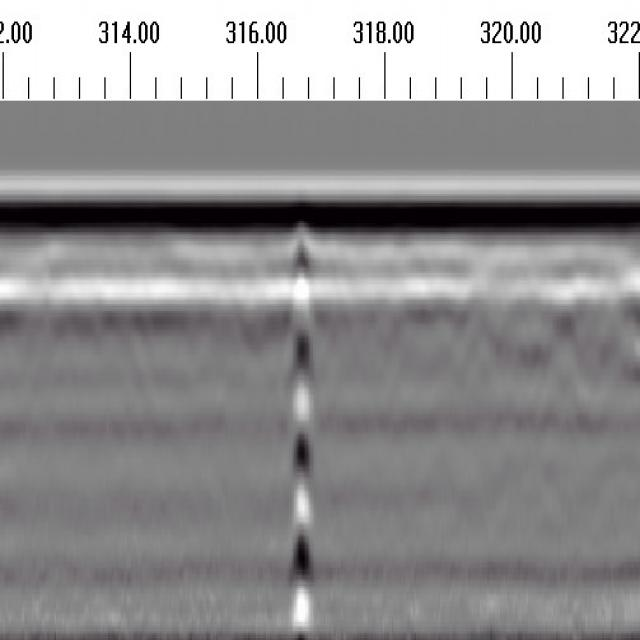crack: (287, 217, 314, 639)
